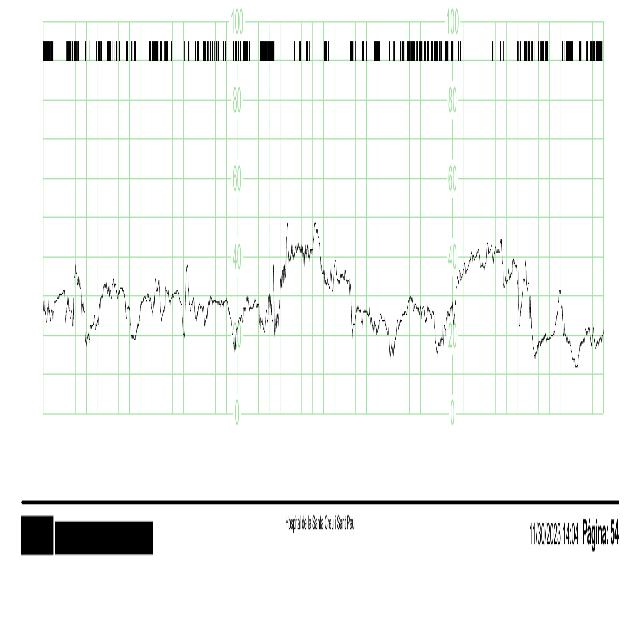contraction: (440, 243, 532, 344), (274, 208, 326, 324)
